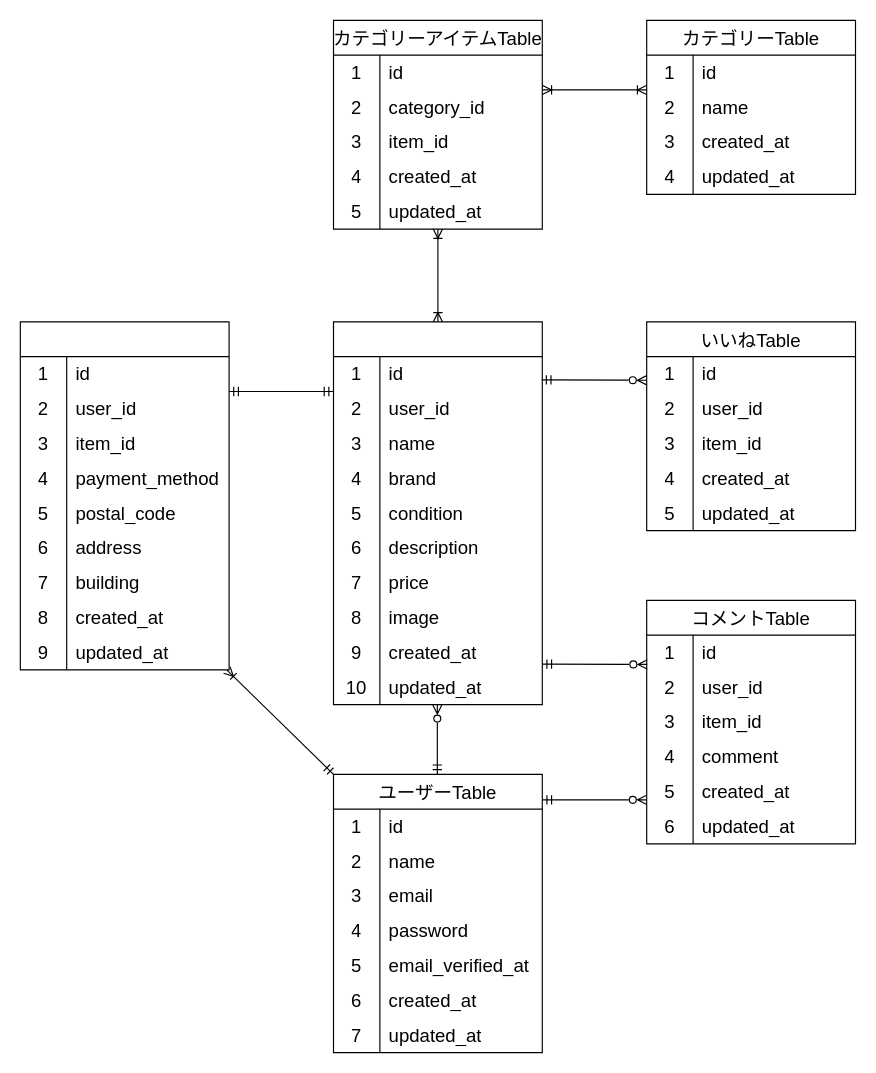
The diagram is 876 pixels wide and 1073 high, and some of its shapes have lost their labels. Each missing label, with the box of its shape:
アイテムTable: (332, 321, 542, 705)
購入Table: (19, 321, 229, 670)
